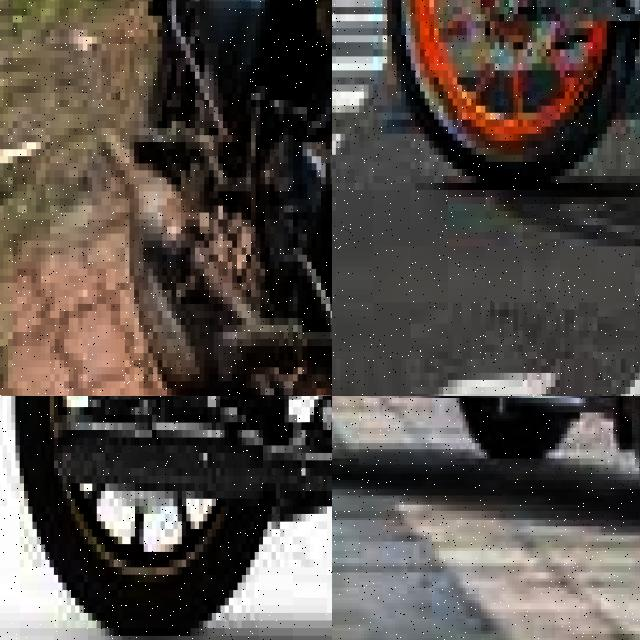bike: (111, 0, 332, 396), (0, 396, 332, 640), (359, 0, 640, 197)
car: (332, 396, 640, 535)
